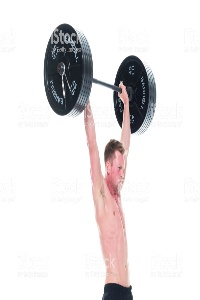barbell: (41, 23, 95, 118)
